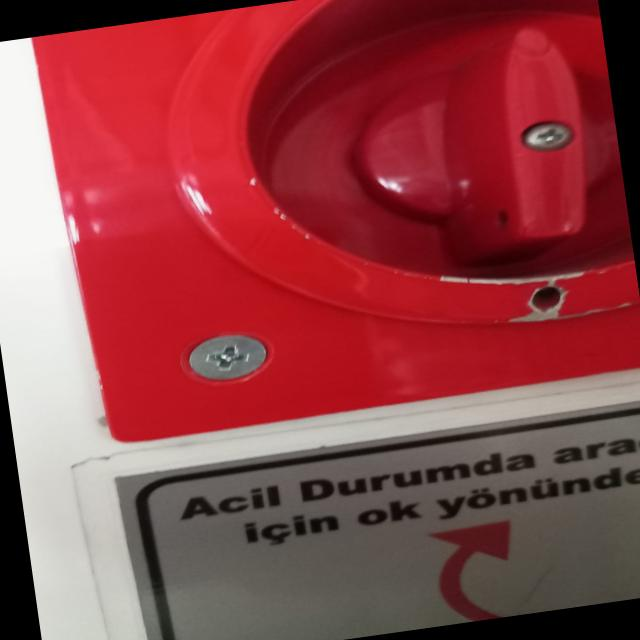Phillips: (187, 329, 272, 386), (522, 116, 577, 154)
